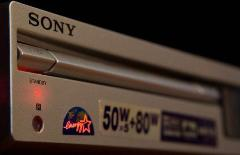electronic: (3, 0, 239, 154)
